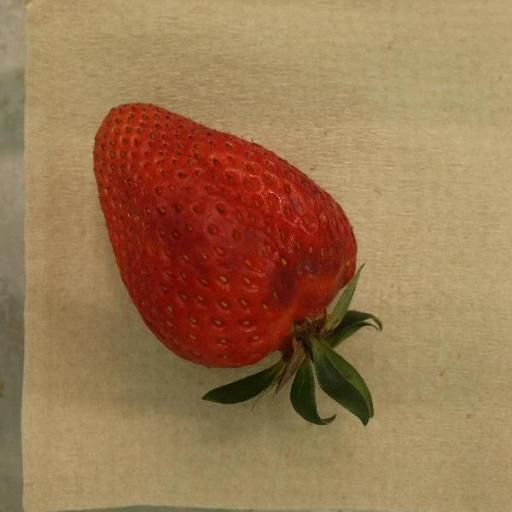Strawberry: (93, 103, 383, 428)
